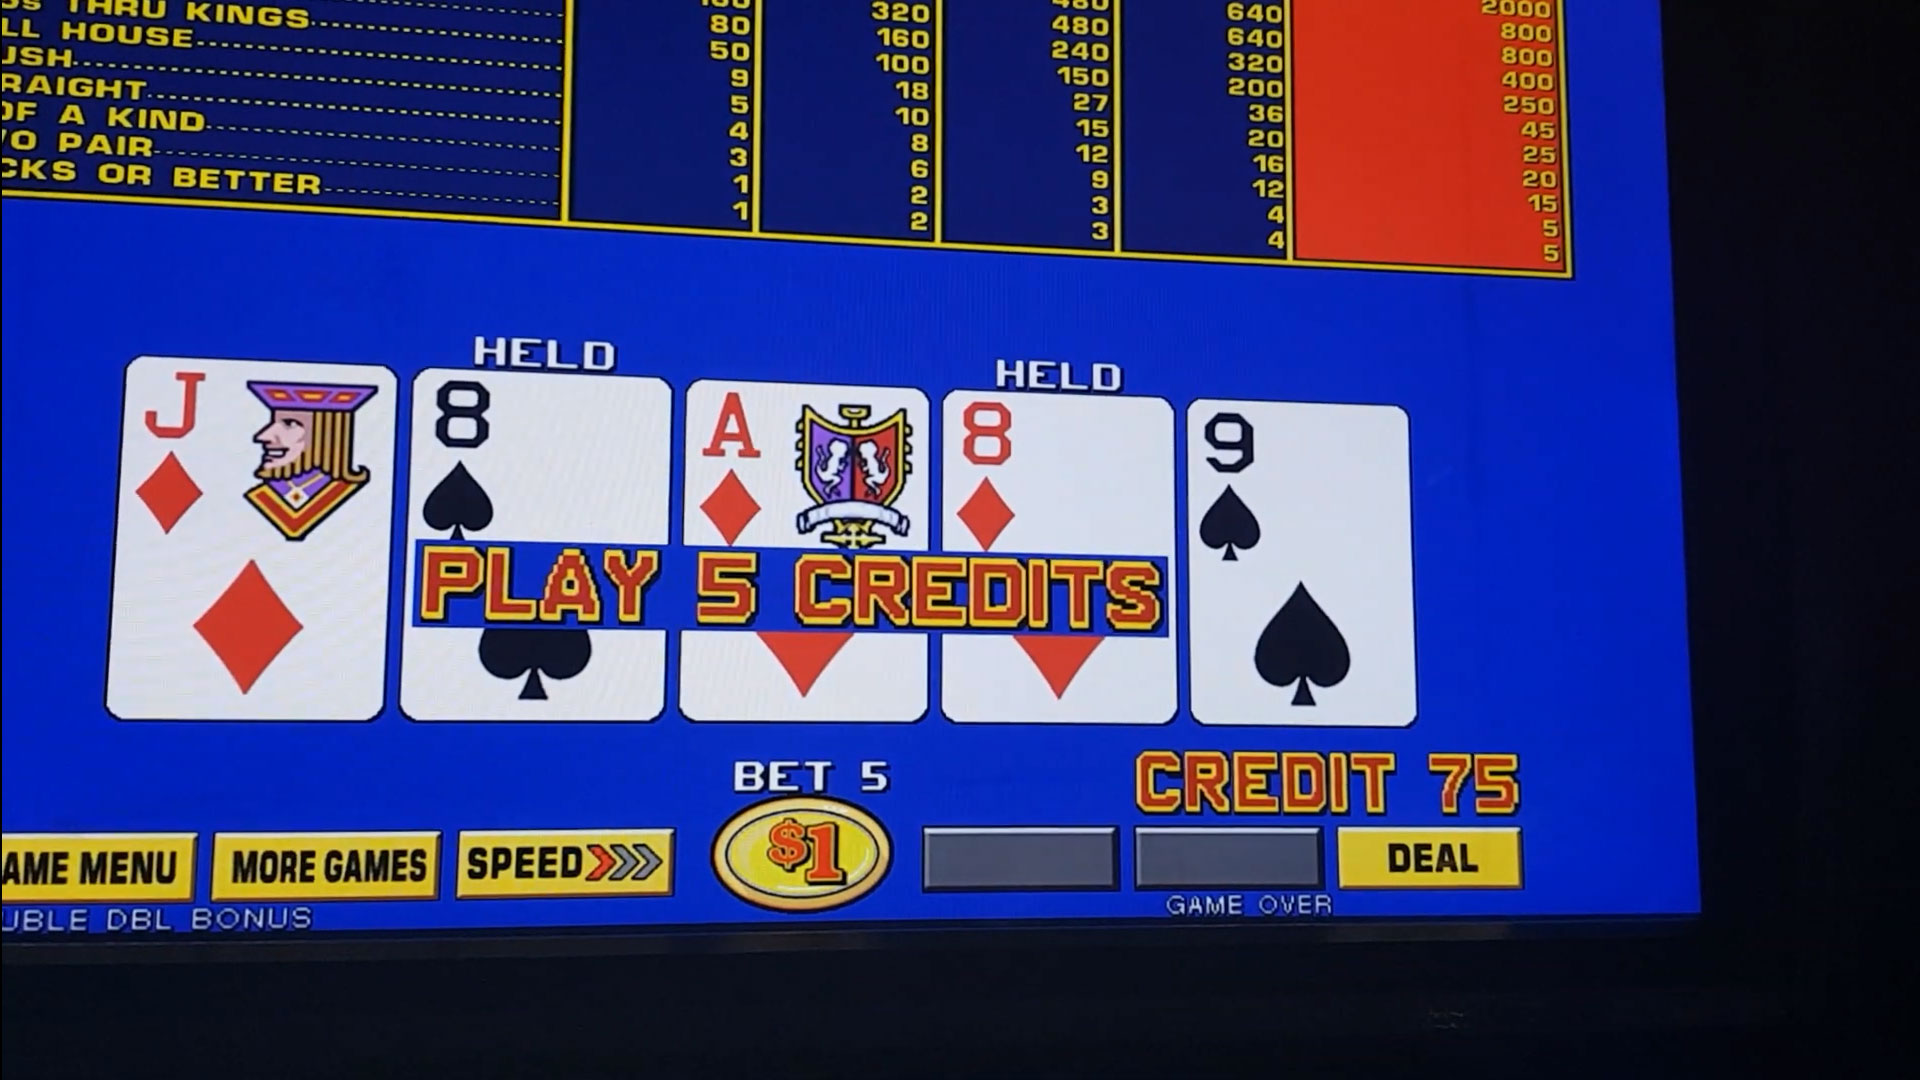D8: (945, 400, 1168, 553)
DA: (688, 386, 924, 545)
DJ: (137, 369, 390, 543)
S8: (411, 382, 663, 535)
S9: (1192, 405, 1404, 568)
